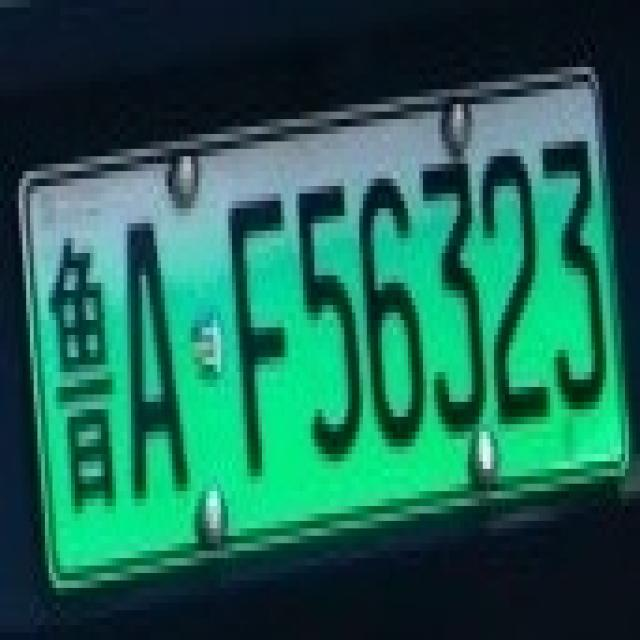2: (472, 126, 550, 416)
3: (528, 112, 610, 410), (408, 142, 490, 432)
5: (284, 156, 363, 454)
6: (344, 156, 427, 446)
A: (101, 194, 191, 506)
F: (213, 171, 296, 476)
